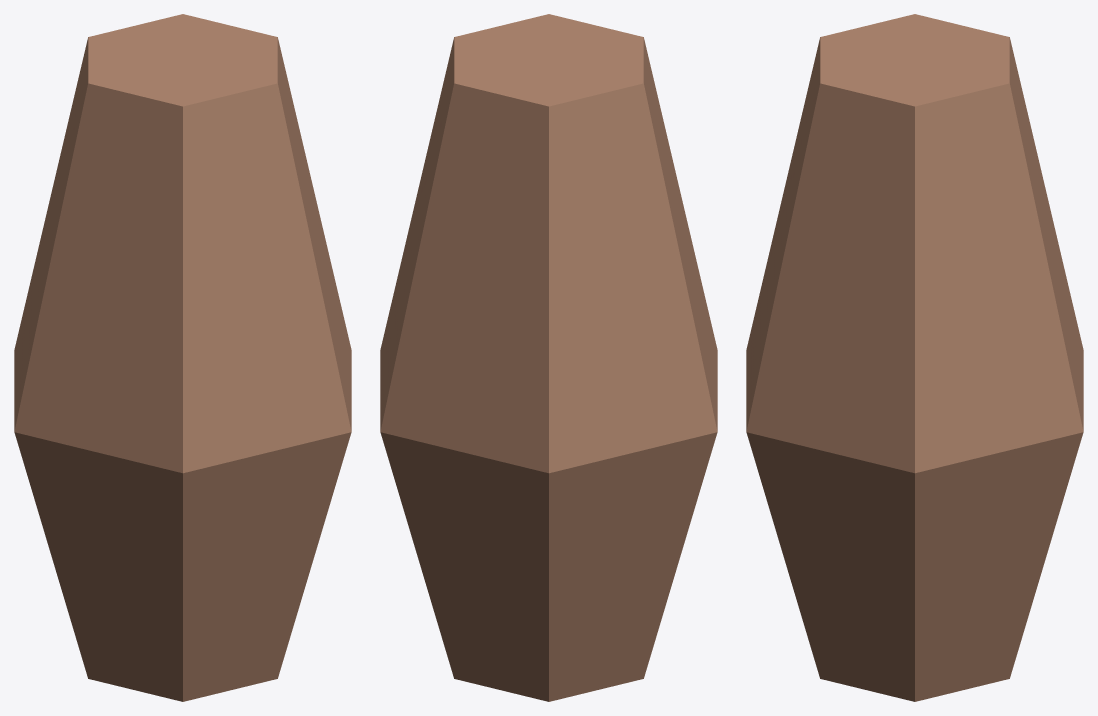
The model's file is pottery_jug_lod2.glb.
The picture shows the model from 3 angles, left to right: view 1: azimuth 30°, elevation 25°; view 2: azimuth 150°, elevation 25°; view 3: azimuth 270°, elevation 25°; orthographic projection.
Visible parts, largest first — view 1: pottery_jug; view 2: pottery_jug; view 3: pottery_jug.
Boxes of the visible parts, x1=… form: pottery_jug: x1=14, y1=14, x2=351, y2=701; pottery_jug: x1=380, y1=14, x2=717, y2=701; pottery_jug: x1=746, y1=14, x2=1083, y2=701.
Size of the model in its own units: 0.16 by 0.27 by 0.1386.
